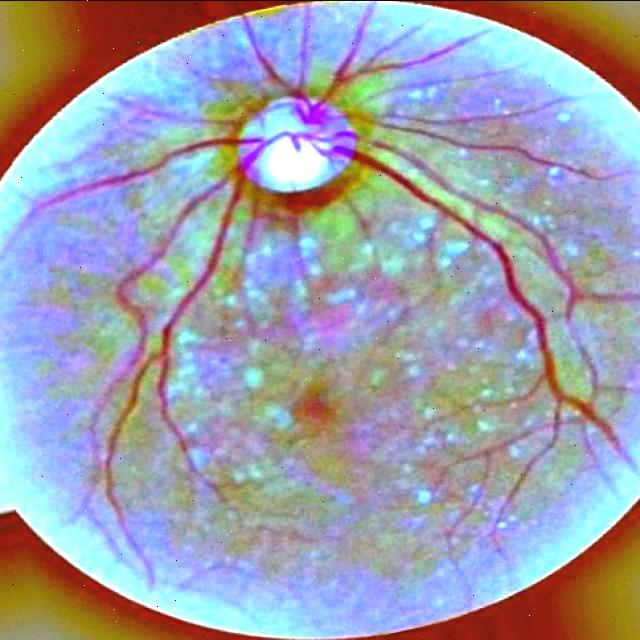Macula: (294, 383, 340, 436)
Nerves: (54, 9, 624, 530)
Optic Disk: (242, 98, 356, 192)
